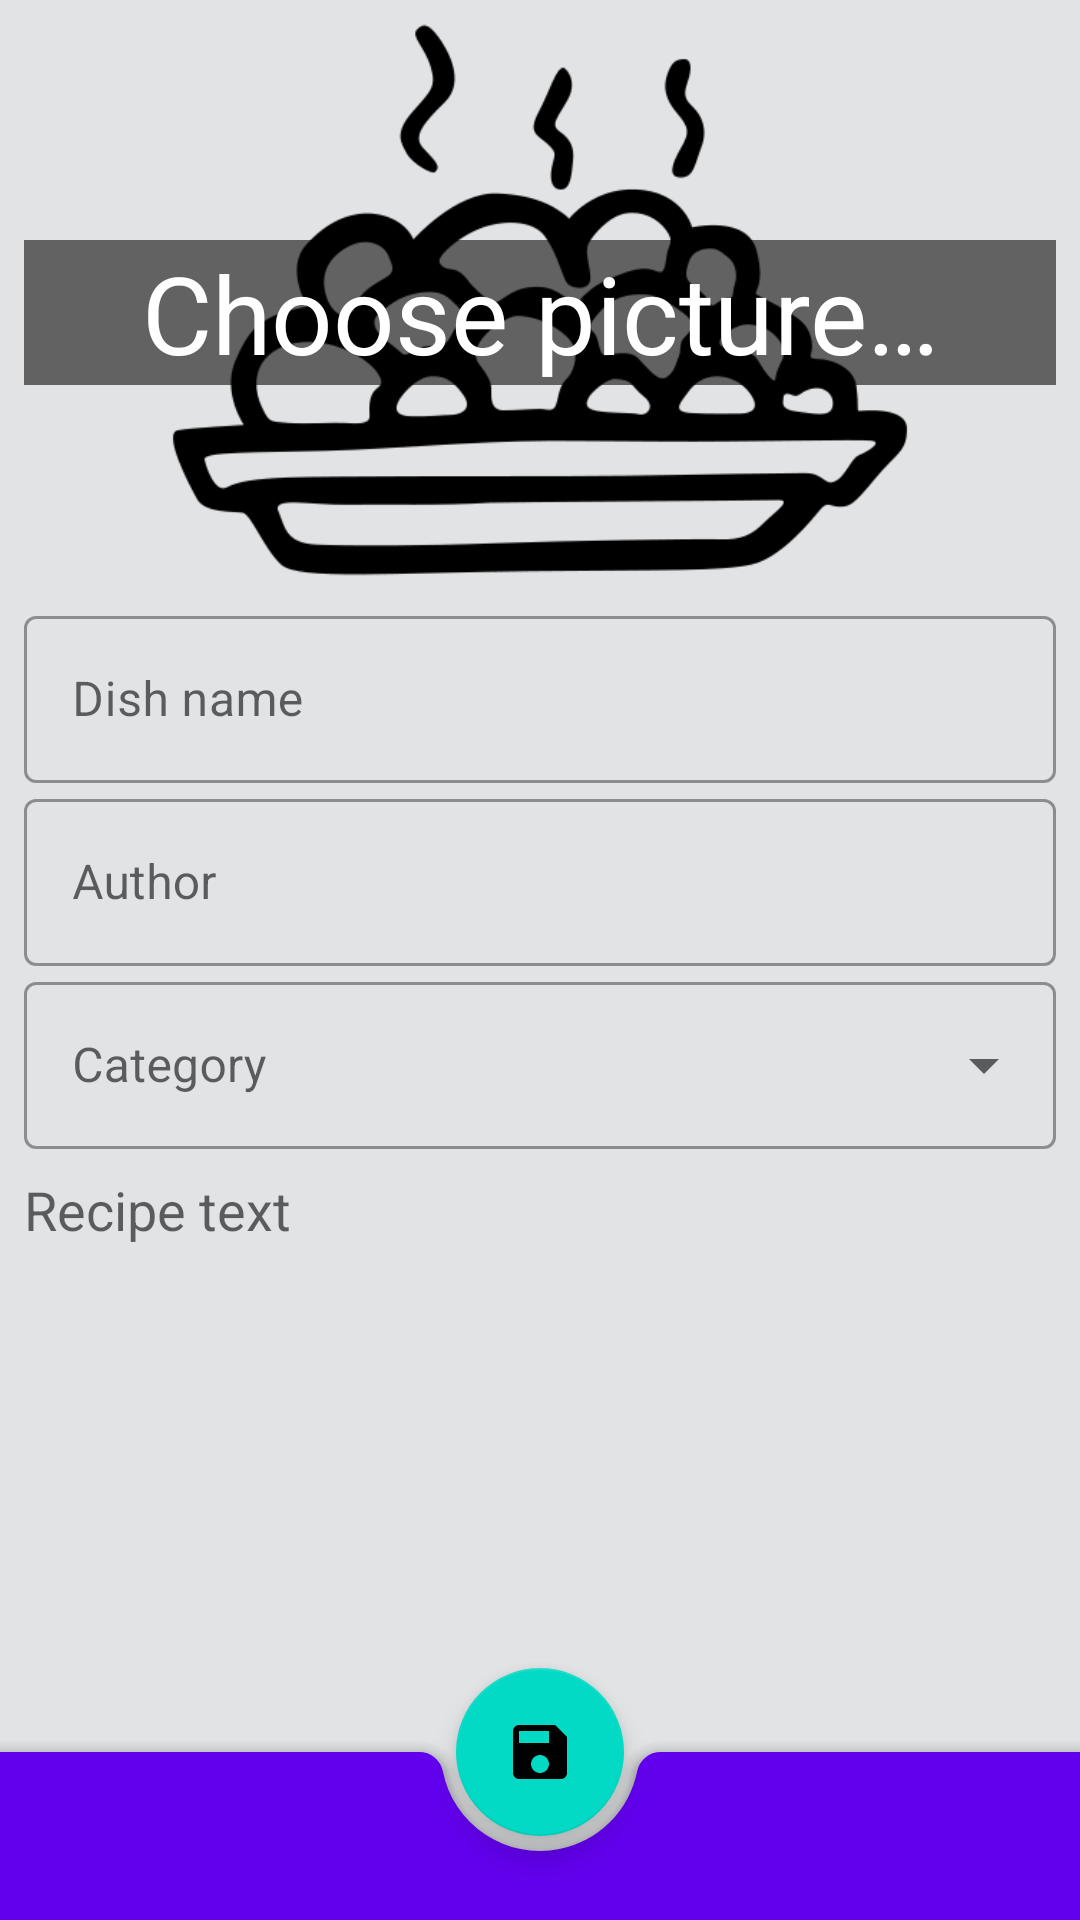

Named icons in this screenshot (1080 x 1920) and their centers, point (x, y):
Save: point (540, 1752)
